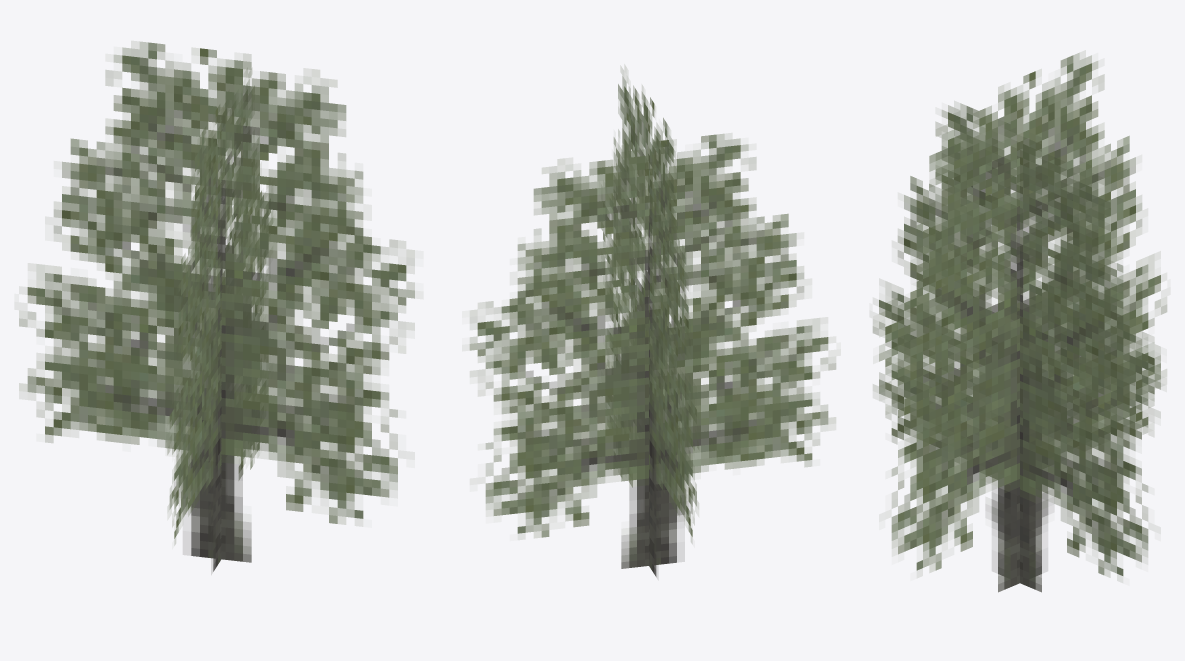
Rendered from tree-large.glb.
3 views of the same model, side by side, from view 1: azimuth 30°, elevation 25°; view 2: azimuth 150°, elevation 25°; view 3: azimuth 270°, elevation 25° (orthographic). The views are drawn at different scales.
Visible parts, largest first — view 1: tree-large; view 2: tree-large; view 3: tree-large.
Boxes of the visible parts, x1,y1,x2,y2 form: tree-large: (19, 41, 414, 574); tree-large: (469, 66, 835, 578); tree-large: (873, 51, 1166, 592).
Size of the model in its own units: 0.9192 by 1.7 by 0.9192.
Materials: 1 (1 with a texture image).
